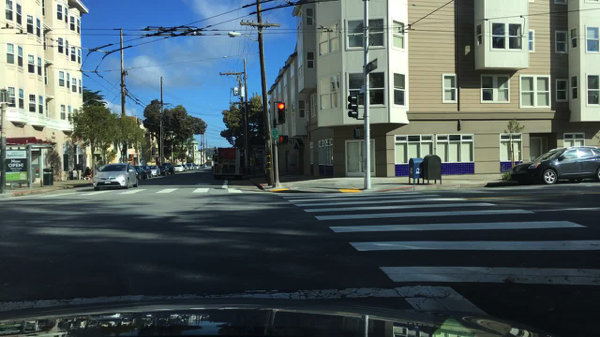car: (510, 147, 598, 184), (92, 163, 138, 189), (133, 166, 147, 180), (150, 166, 162, 177), (164, 163, 172, 175), (174, 164, 184, 173), (146, 166, 152, 178), (189, 163, 194, 170), (184, 165, 189, 170), (196, 165, 201, 169)
person: (85, 167, 91, 177)
traffic light: (347, 96, 357, 117), (278, 102, 286, 124), (279, 136, 288, 143), (353, 128, 359, 138)
traffic sign: (366, 59, 377, 74), (272, 130, 278, 137)
truck: (212, 147, 246, 179)
